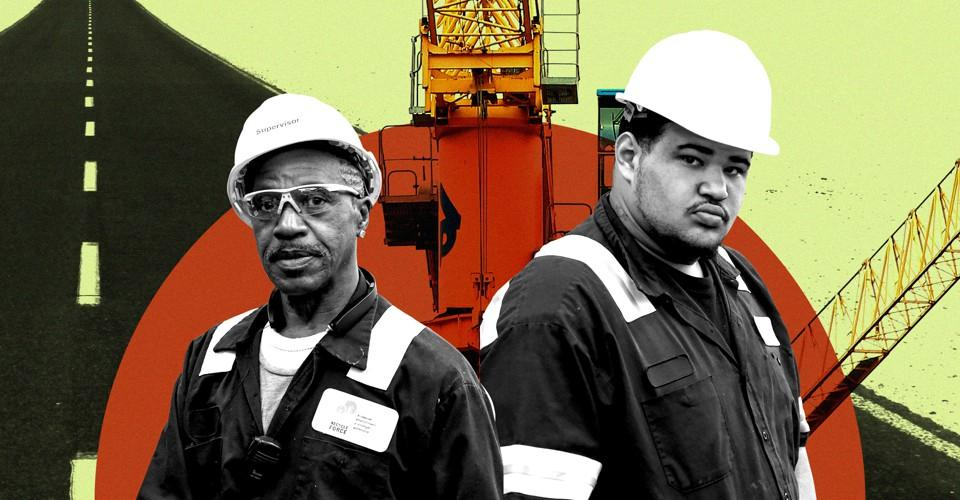helmet: (618, 29, 780, 158), (228, 96, 383, 209)
